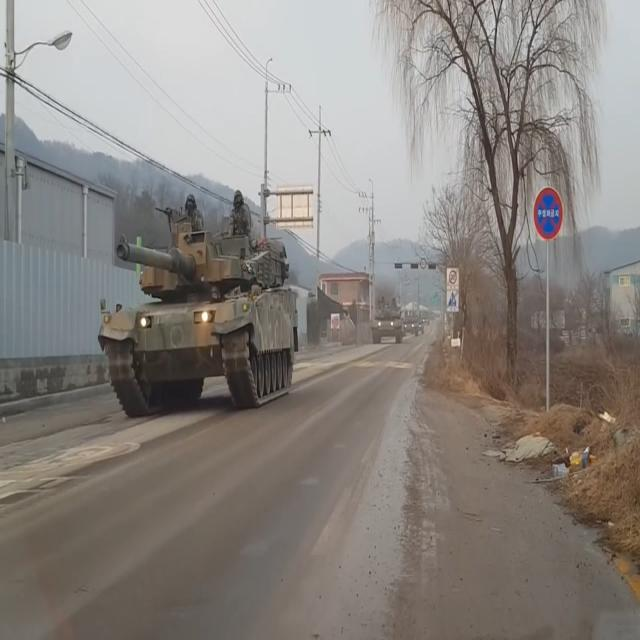korea tank: (91, 183, 299, 419)
